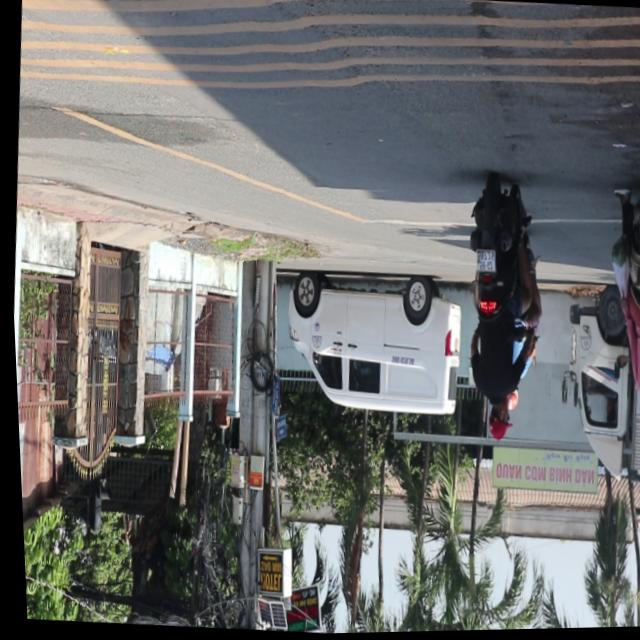helmet: (634, 396, 640, 432)
licenseplate: (449, 175, 550, 447), (592, 183, 640, 435)
motorcyclist: (479, 399, 508, 444)
nohelmet: (473, 251, 493, 274), (636, 223, 640, 246)
